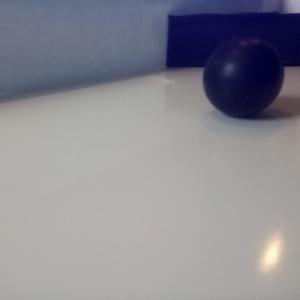zone: (167, 11, 300, 68)
